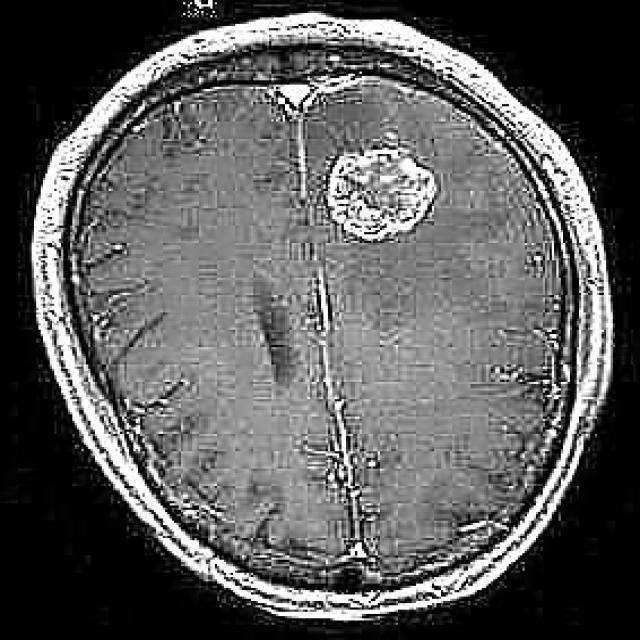Tumor-Cell: (321, 123, 446, 245)
